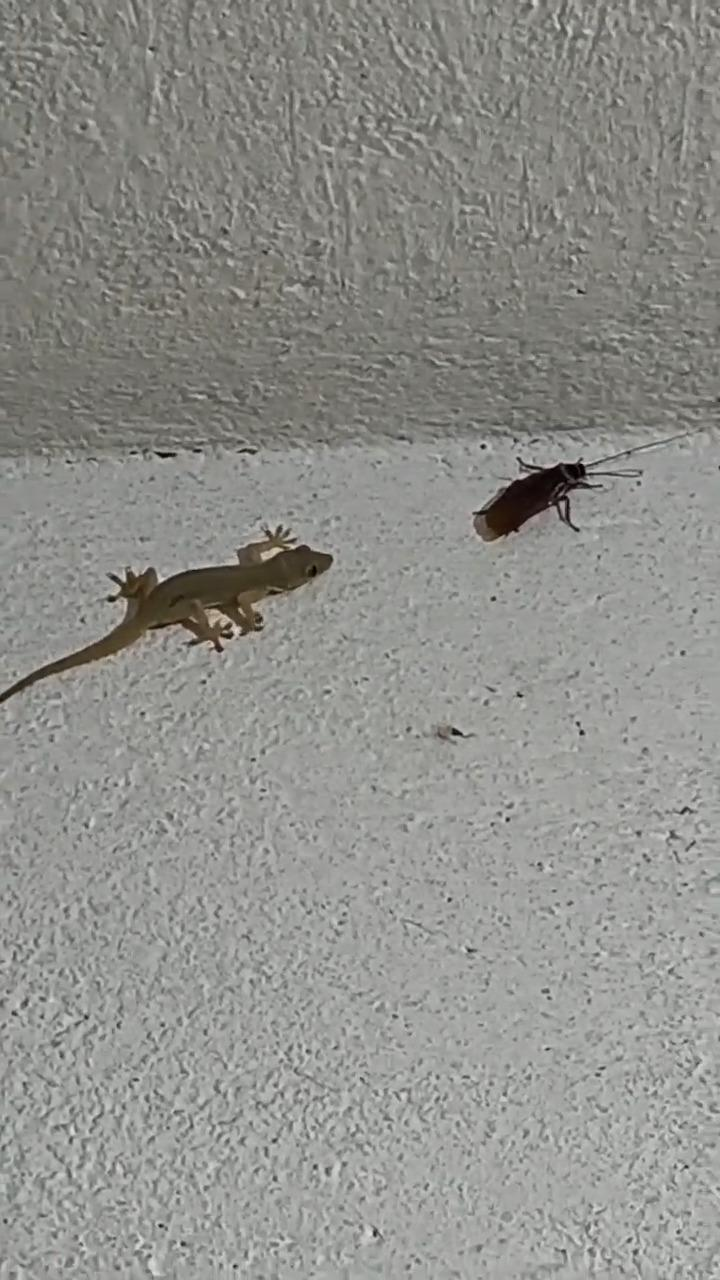cockroach: (456, 438, 659, 538)
lizard: (0, 488, 339, 702)
